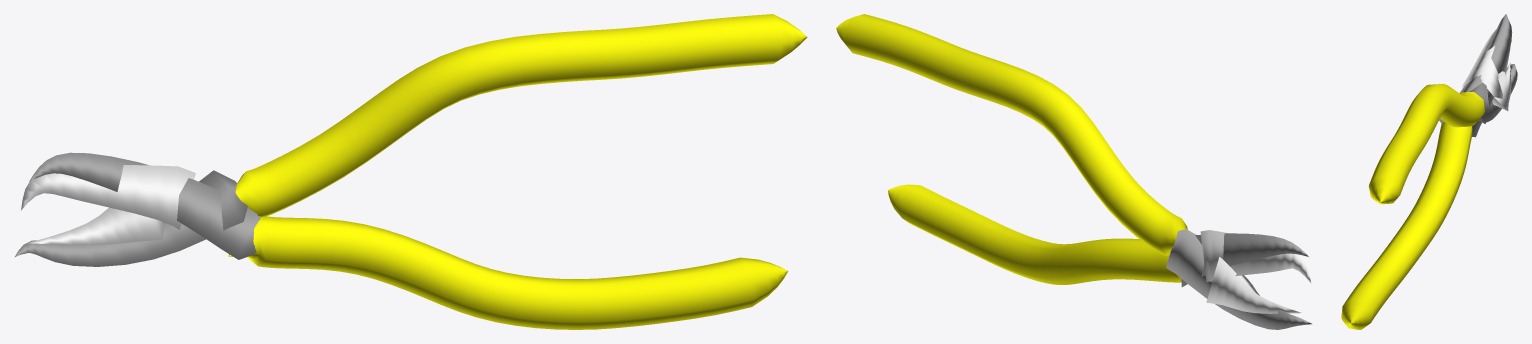
Rendered from cutters.glb.
The picture shows the model from 3 angles, left to right: view 1: azimuth 30°, elevation 25°; view 2: azimuth 150°, elevation 25°; view 3: azimuth 270°, elevation 25°; orthographic projection. The views are drawn at different scales.
Visible parts, largest first — view 1: position; view 2: position; view 3: position.
Boxes of the visible parts, <box> form: position: <box>15,14,807,329</box>; position: <box>836,14,1312,329</box>; position: <box>1341,14,1517,329</box>.
Size of what is drawn, in the model's own units: 0.2043 by 0.0777 by 0.0697.
